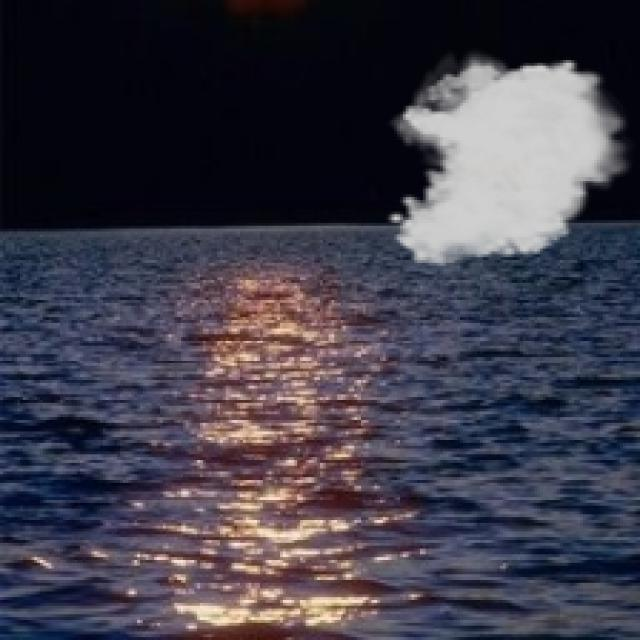smoke: (386, 45, 637, 268)
